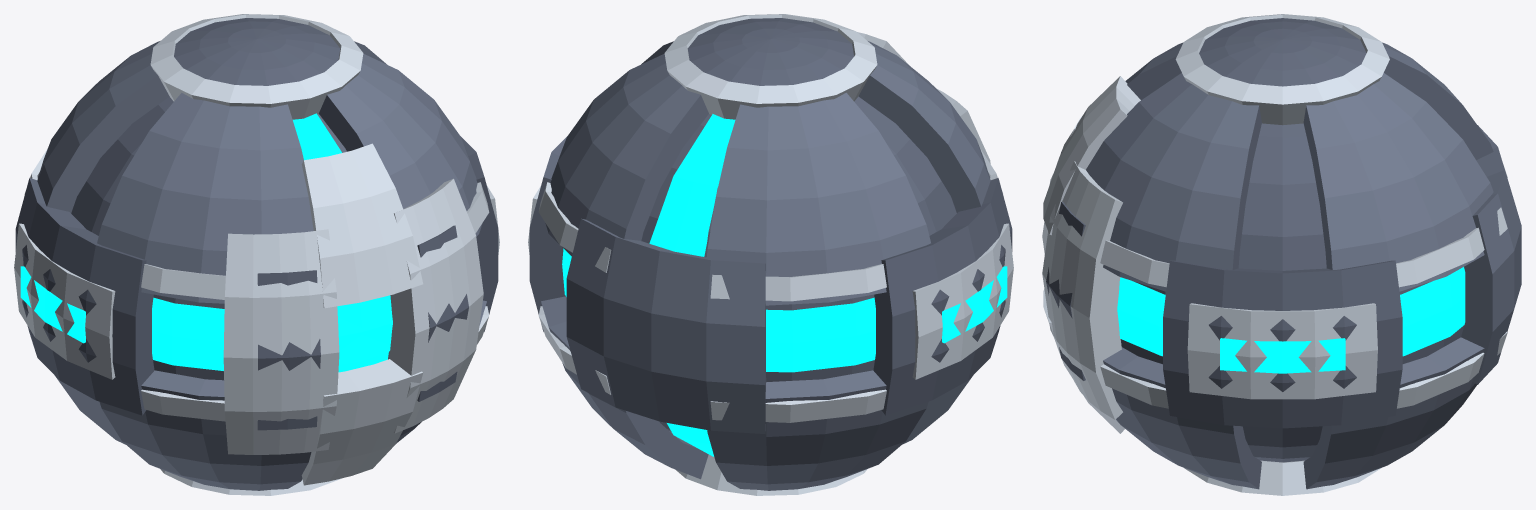
File: Chassis_Rammer_Prototype.glb
3 views of the same model, side by side, from view 1: azimuth 30°, elevation 25°; view 2: azimuth 150°, elevation 25°; view 3: azimuth 270°, elevation 25° (orthographic).
Visible parts, largest first — view 1: SM_Chassis_Rammer_01; view 2: SM_Chassis_Rammer_01; view 3: SM_Chassis_Rammer_01.
Boxes of the visible parts, box(x1,y1,x2,y2) form: SM_Chassis_Rammer_01: box(14, 14, 499, 495); SM_Chassis_Rammer_01: box(528, 14, 1013, 495); SM_Chassis_Rammer_01: box(1042, 14, 1521, 495).
Bounding box in the file's own units: 5.92 × 5.76 × 5.81.
